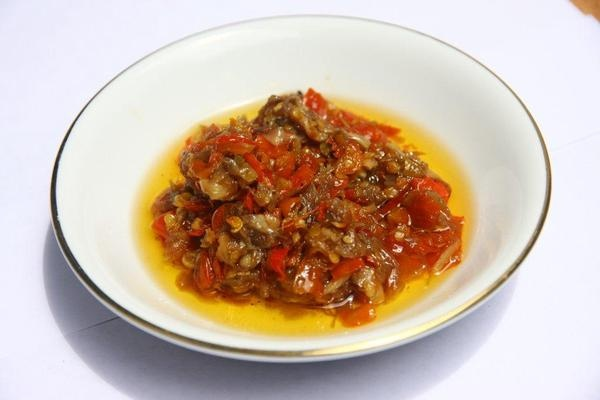sambal: (147, 87, 458, 318)
